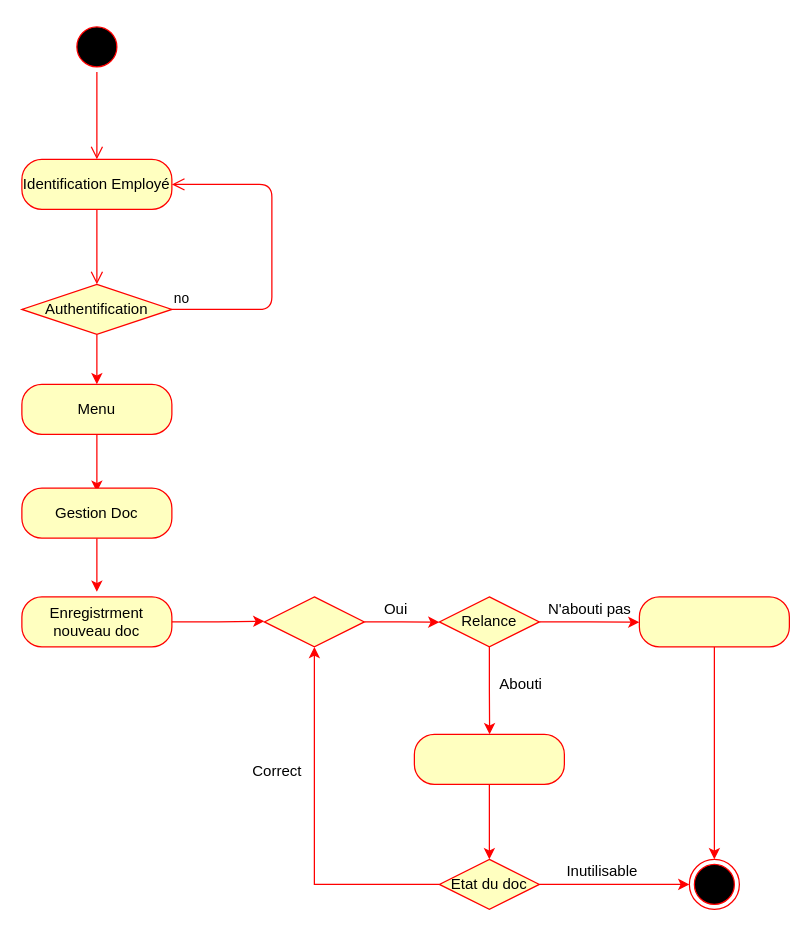
Image size: 811x931. Some labels were removed from this diagram. The shapes that lost their labels are listed below. From the top down, each one's box as (x1, y1, x2, y2) in pixels, then its label:
(263, 596, 364, 647): Emprunt
(638, 596, 789, 647): Litige
(413, 733, 564, 784): Retour du doc
